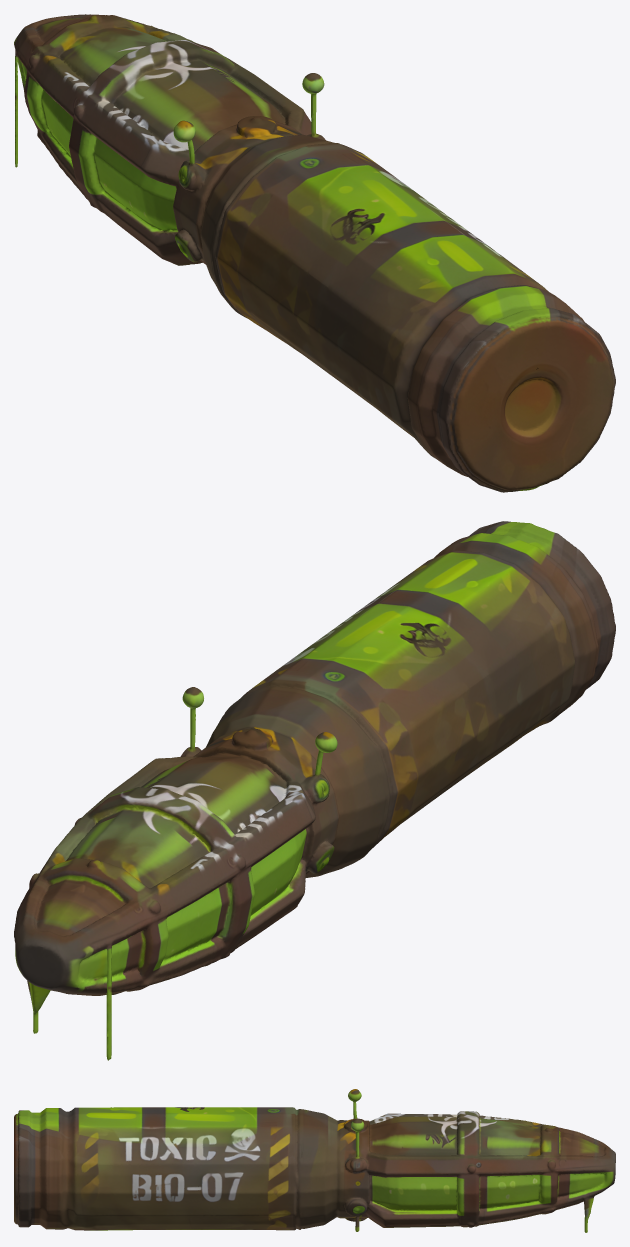
The model's file is tripo_convert_7ba83226-a02e-43d9-bcea-6e931b706bfc.fbx.
3 views of the same model, one above another, from view 1: azimuth 30°, elevation 25°; view 2: azimuth 150°, elevation 25°; view 3: azimuth 270°, elevation 25° (orthographic). The views are drawn at different scales.
Parts seen in each view (by area): view 1: tripo_node_7ba83226; view 2: tripo_node_7ba83226; view 3: tripo_node_7ba83226.
Boxes of the visible parts, left/top/right/bottom form: tripo_node_7ba83226: left=14, top=14, right=615, bottom=492; tripo_node_7ba83226: left=14, top=521, right=615, bottom=1060; tripo_node_7ba83226: left=14, top=1089, right=615, bottom=1232.
Bounding box in the file's own units: 0.2105 × 0.2317 × 1.
Materials: 1 (1 with a texture image).
